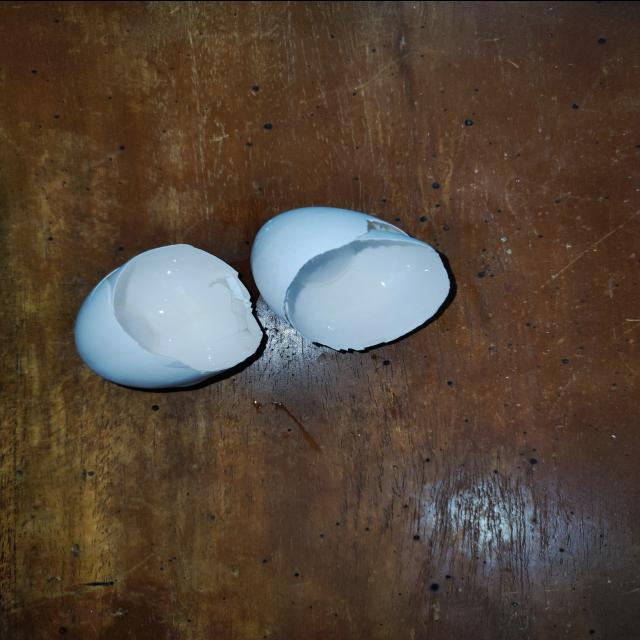egg shell: (252, 204, 452, 351), (74, 242, 264, 390)
